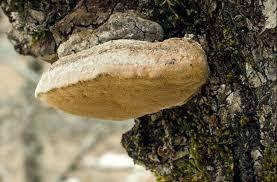Plum tinder fungus: (32, 30, 227, 129)
